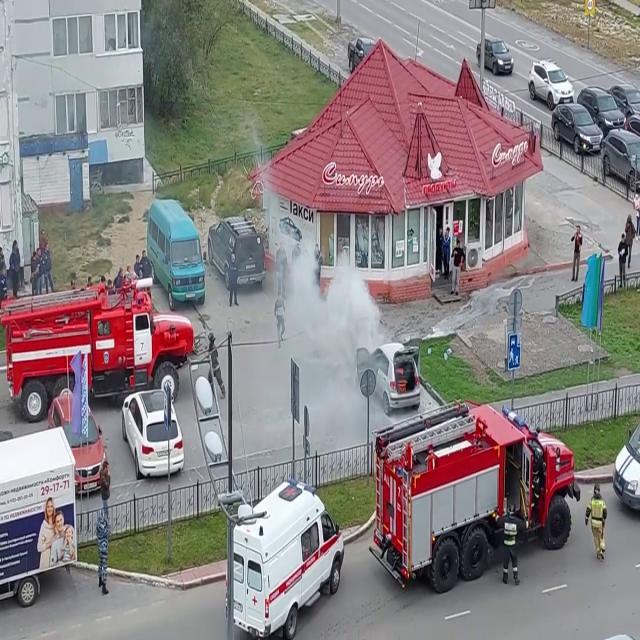Smoke: (275, 227, 389, 385)
